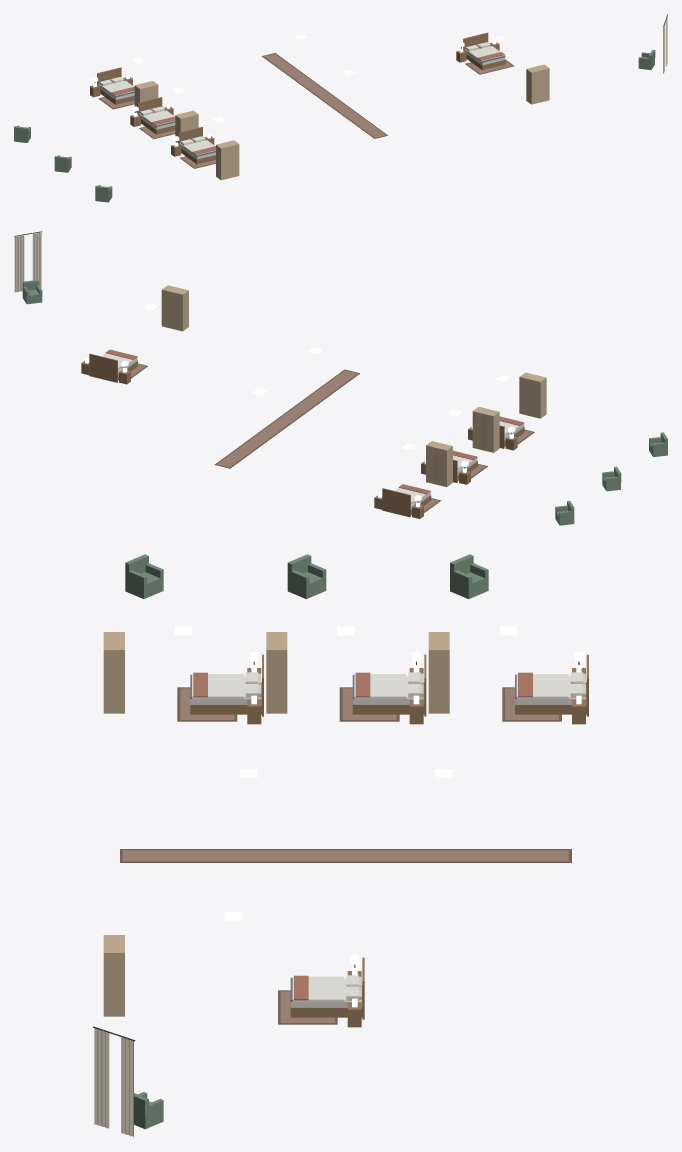
File: fine-s1.glb
3 views of the same model, one above another, from view 1: azimuth 30°, elevation 25°; view 2: azimuth 150°, elevation 25°; view 3: azimuth 270°, elevation 25° (orthographic). The views are drawn at different scales.
Parts seen in each view (by area): view 1: soft-s1, dresser.000, dresser.003, bed-frame.000, bed-frame.002, bed-frame.001, bed-frame.003, dresser.001, dresser.002; view 2: soft-s1, dresser.000, dresser.002, dresser.003, dresser.001, bed-frame.001, bed-frame.000, lounge-chair.000; view 3: soft-s1, dresser.000, dresser.001, dresser.002, dresser.003, lounge-chair.002, lounge-chair.001, lounge-chair.003, bed-frame.002, bed-frame.000, bed-frame.001, bed-frame.003 (+1 smaller).
Part boxes in pixels (x1,y1,x2,y2): soft-s1: (92, 14, 667, 168); dresser.000: (526, 64, 549, 104); dresser.003: (216, 140, 239, 180); bed-frame.000: (463, 32, 505, 70); bed-frame.002: (137, 97, 175, 134); bed-frame.001: (97, 67, 134, 104); bed-frame.003: (178, 127, 215, 164); dresser.001: (134, 81, 158, 112); dresser.002: (175, 110, 198, 142); soft-s1: (14, 231, 534, 512); dresser.000: (161, 285, 188, 331); dresser.002: (472, 407, 499, 452); dresser.003: (519, 372, 546, 418); dresser.001: (426, 441, 452, 486); bed-frame.001: (382, 488, 431, 517); bed-frame.000: (89, 353, 137, 382); lounge-chair.000: (22, 280, 42, 304); soft-s1: (93, 652, 584, 1136); dresser.000: (103, 935, 124, 1016); dresser.001: (428, 632, 449, 713); dresser.002: (266, 632, 287, 713); dresser.003: (103, 632, 124, 713); lounge-chair.002: (287, 554, 326, 599); lounge-chair.001: (450, 554, 488, 599); lounge-chair.003: (125, 554, 163, 598); bed-frame.002: (352, 654, 426, 716); bed-frame.000: (290, 957, 364, 1019); bed-frame.001: (515, 654, 588, 716); bed-frame.003: (190, 654, 263, 716).
Size of the model in its own units: 37.47 by 3.11 by 14.1.
